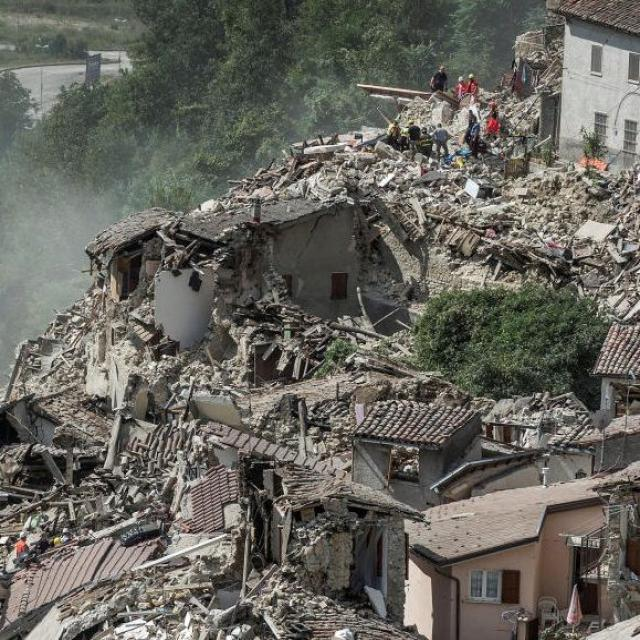collapsed_building: (182, 409, 430, 623), (110, 195, 352, 387), (389, 18, 559, 168)
